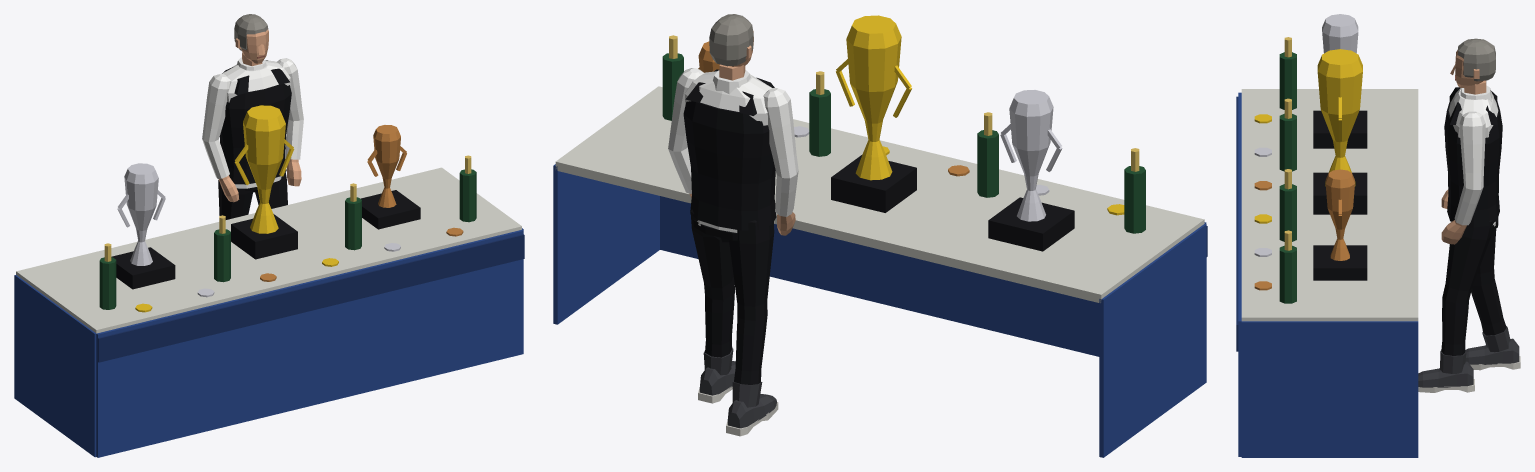
File: trophy_table.glb
3 renders of one model, left to right at view 1: azimuth 30°, elevation 25°; view 2: azimuth 150°, elevation 25°; view 3: azimuth 270°, elevation 25°, orthographic. The views are drawn at different scales.
Parts seen in each view (by area): view 1: Table, Official; view 2: Table, Official; view 3: Table, Official.
Part boxes in pixels (bbox=[...]): Table: bbox=[14, 105, 524, 457]; Official: bbox=[202, 14, 303, 219]; Table: bbox=[553, 15, 1207, 457]; Official: bbox=[668, 14, 798, 436]; Table: bbox=[1236, 14, 1418, 457]; Official: bbox=[1418, 38, 1520, 392].
Size of the model in its own units: 2.62 by 1.78 by 1.37.
